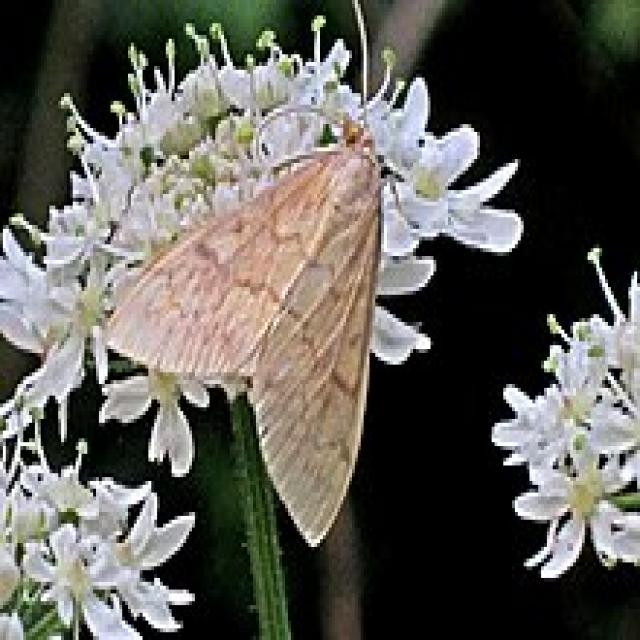cornborer-Adult-: (101, 112, 416, 548)
